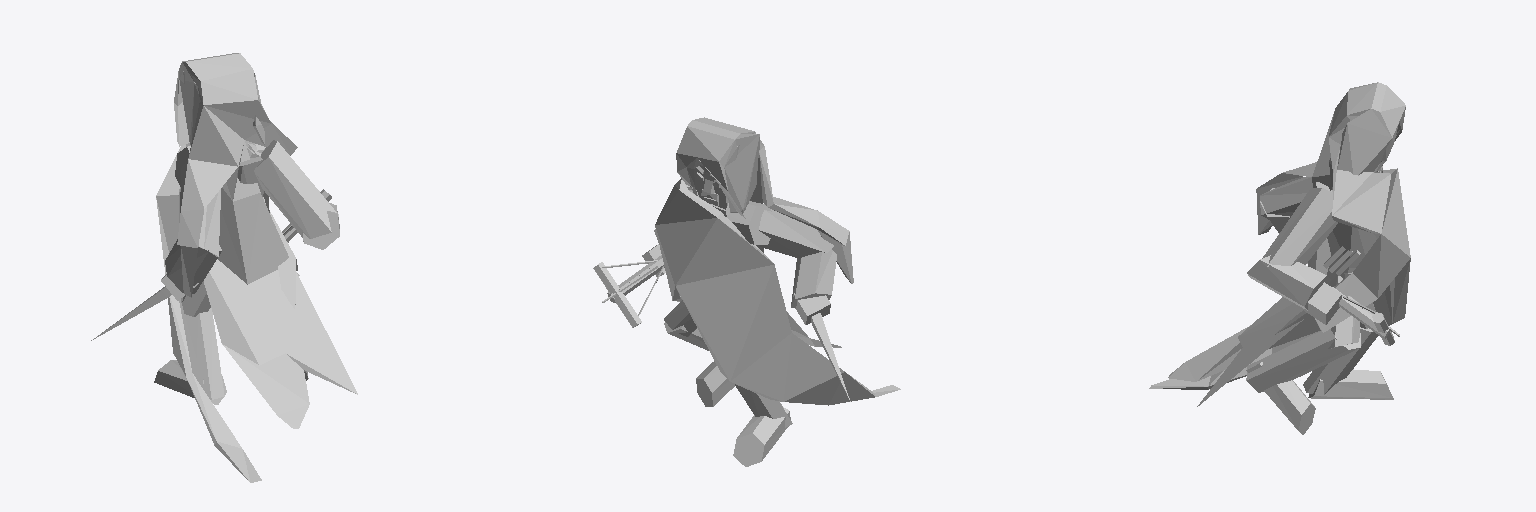
Rendered from Assassin.obj.
3 renders of one model, left to right at view 1: azimuth 30°, elevation 25°; view 2: azimuth 150°, elevation 25°; view 3: azimuth 270°, elevation 25°, orthographic.
Bounding box in the file's own units: 1.16 × 1.45 × 1.05.